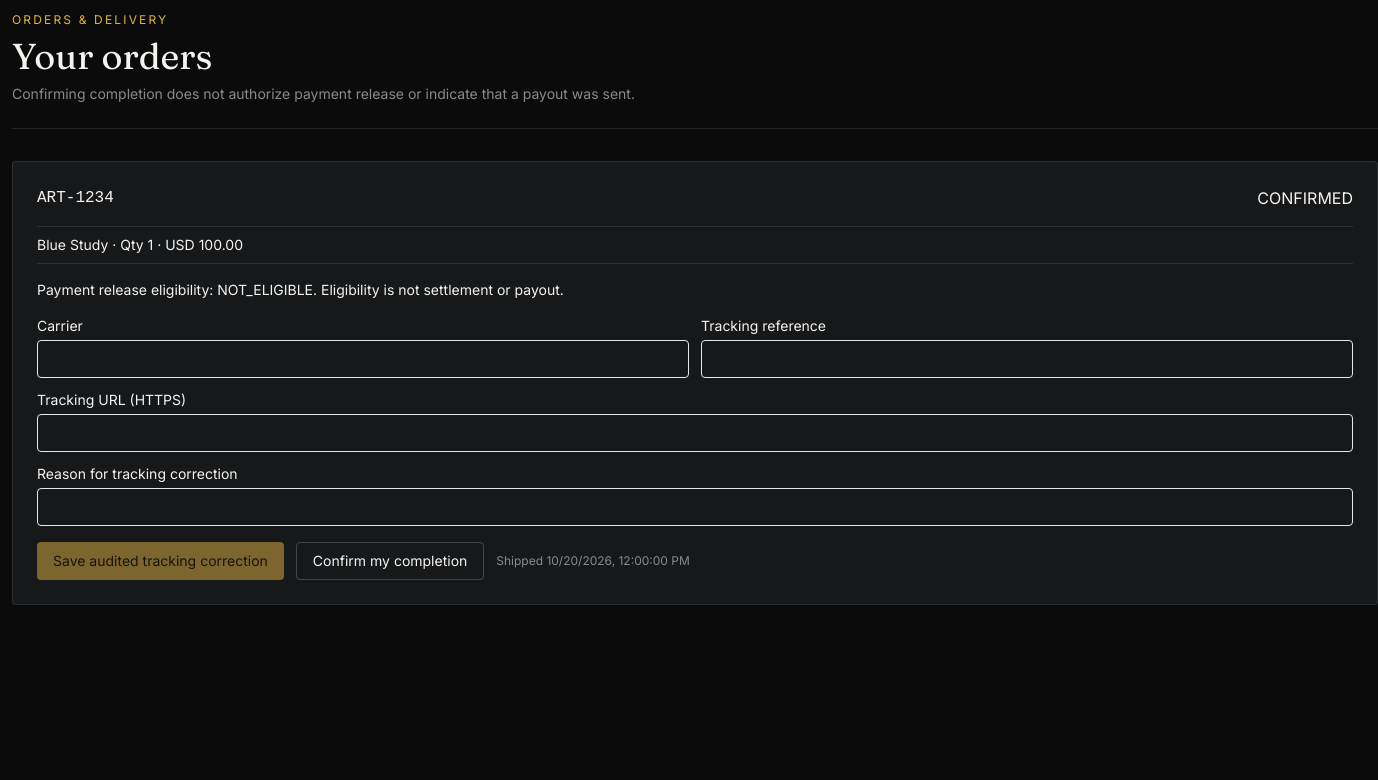
Test: artist order fulfillment page › shows shipment API errors and completion actions only after shipment
This screenshot has width=1378, height=780.
Check: the button "Confirm my completion" is shown, box [296, 542, 484, 580]
In the field labelled "Carrier": (363,359) [37, 340, 689, 378], type "Parcel Post"
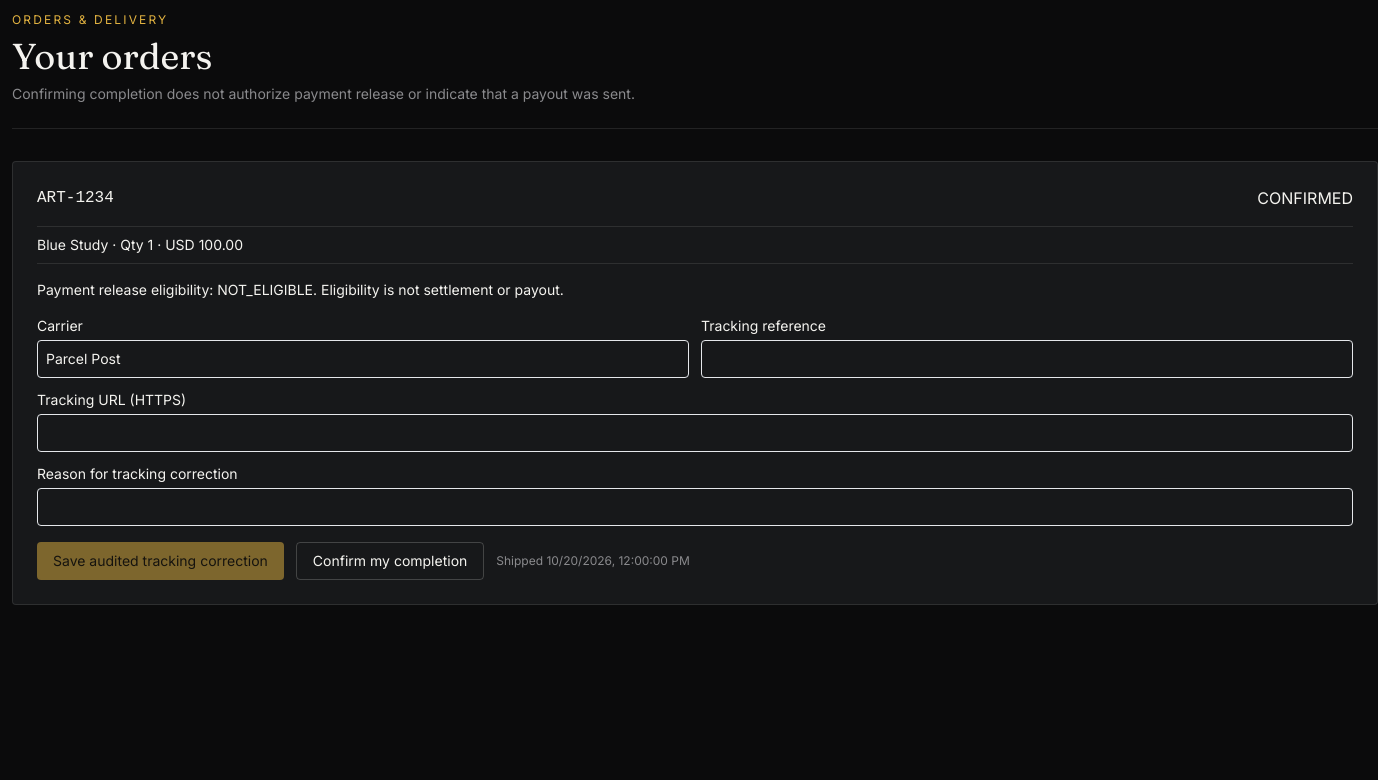
In the field labelled "Tracking reference": (1027,359) [701, 340, 1353, 378], type "TRACK-789"
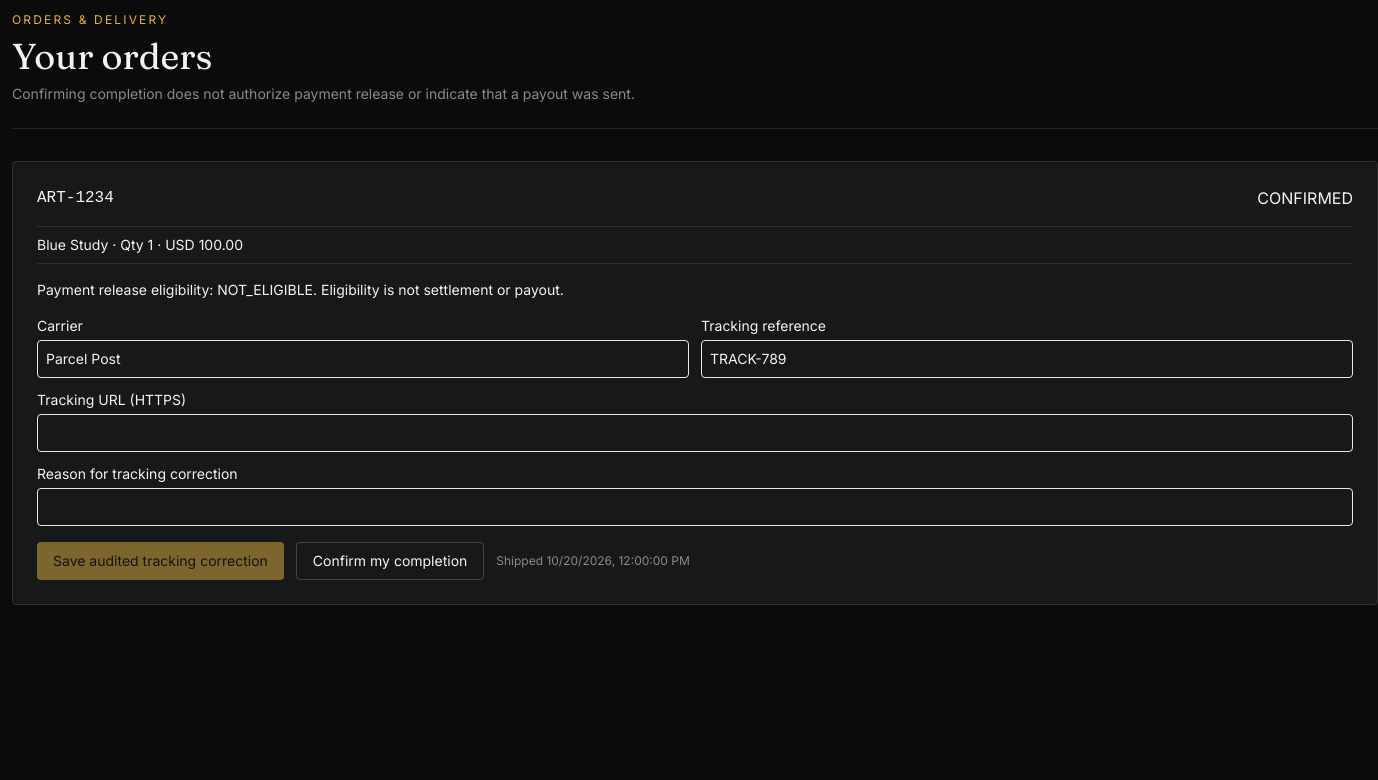
In the field labelled "Reason for tracking correction": (695,507) [37, 488, 1353, 526], type "Correcting the carrier reference."
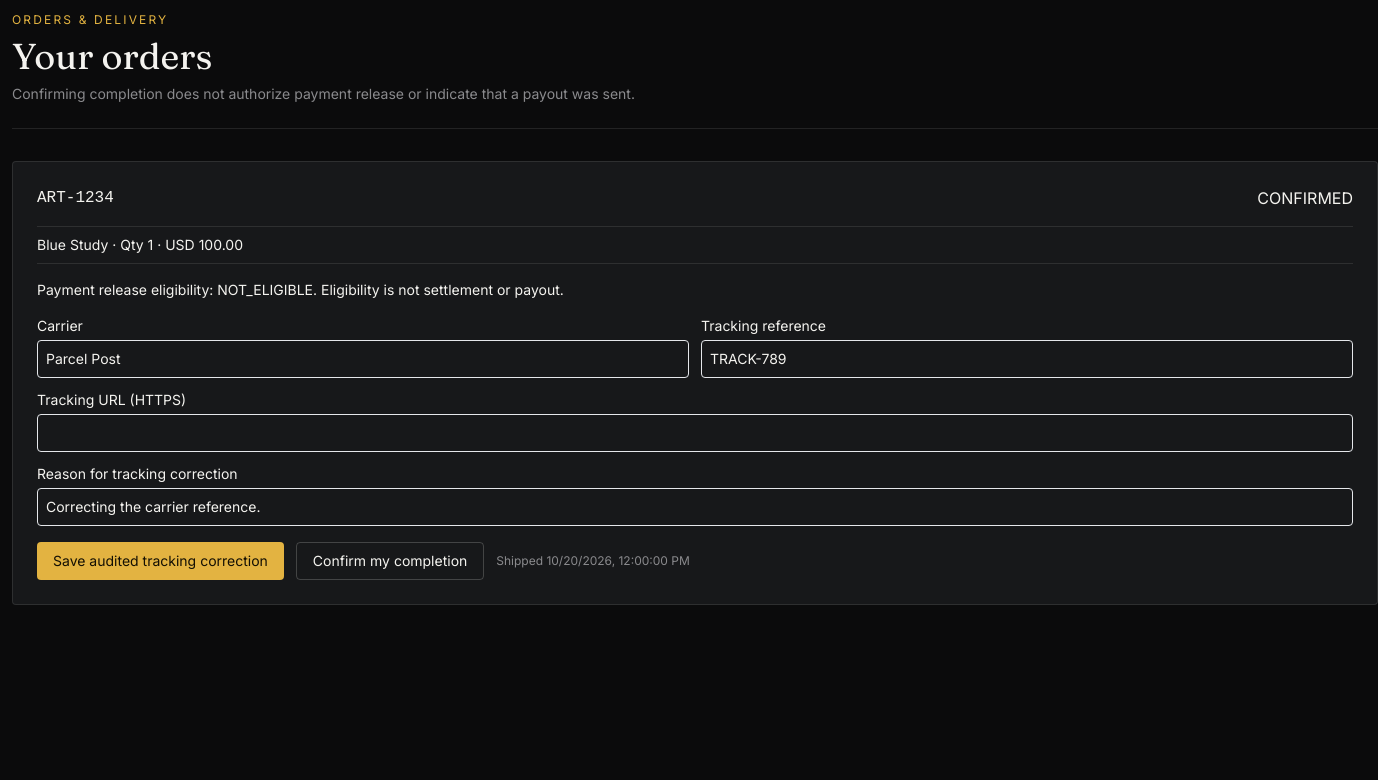
Click the button "Save audited tracking correction": (160,561) [37, 542, 284, 580]
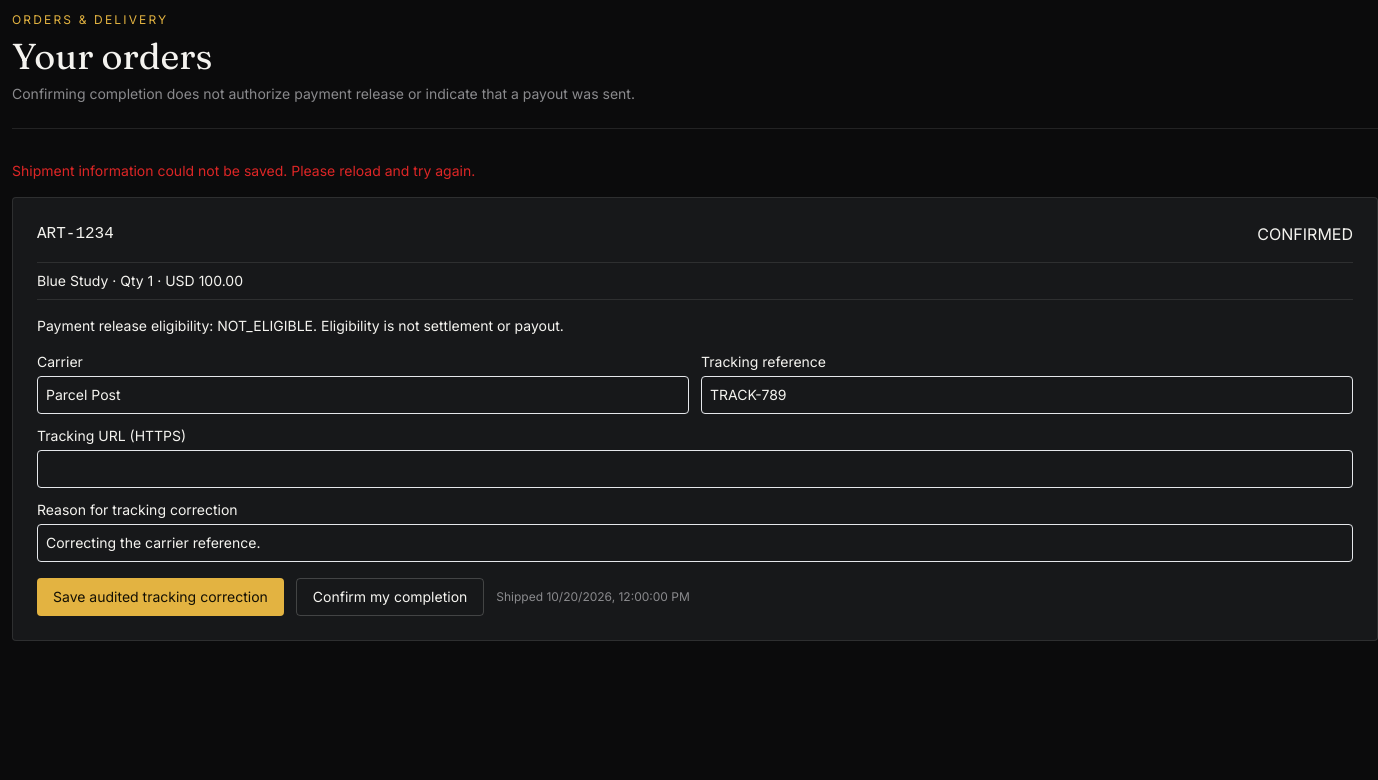
Check: the text "Shipment information could not be saved. Please reload and try again." is shown, box [12, 162, 475, 179]
